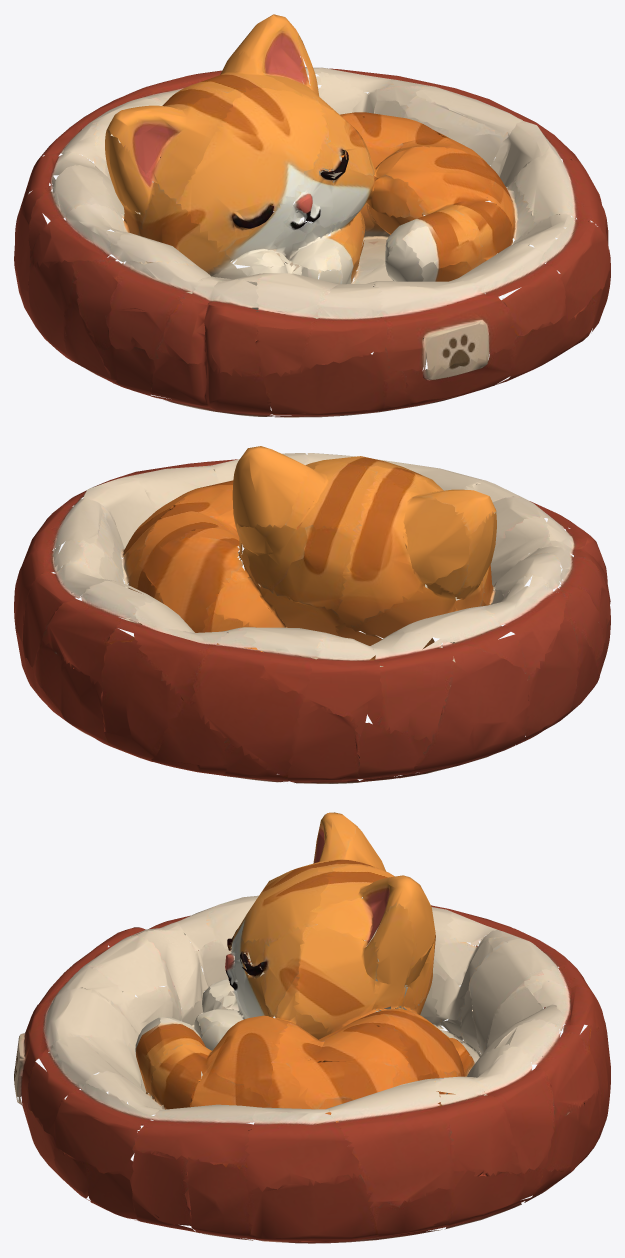
Rendered from catnap-orange.glb.
3 renders of one model, top to bottom at view 1: azimuth 30°, elevation 25°; view 2: azimuth 150°, elevation 25°; view 3: azimuth 270°, elevation 25°, orthographic.
Visible parts, largest first — view 1: catnap_orange; view 2: catnap_orange; view 3: catnap_orange.
Part boxes in pixels (left/top/right/bottom): catnap_orange: left=14, top=14, right=610, bottom=417; catnap_orange: left=14, top=446, right=610, bottom=783; catnap_orange: left=14, top=812, right=610, bottom=1243.
Size of the model in its own units: 1.89 by 0.8857 by 1.89.
Materials: 1 (1 with a texture image).
